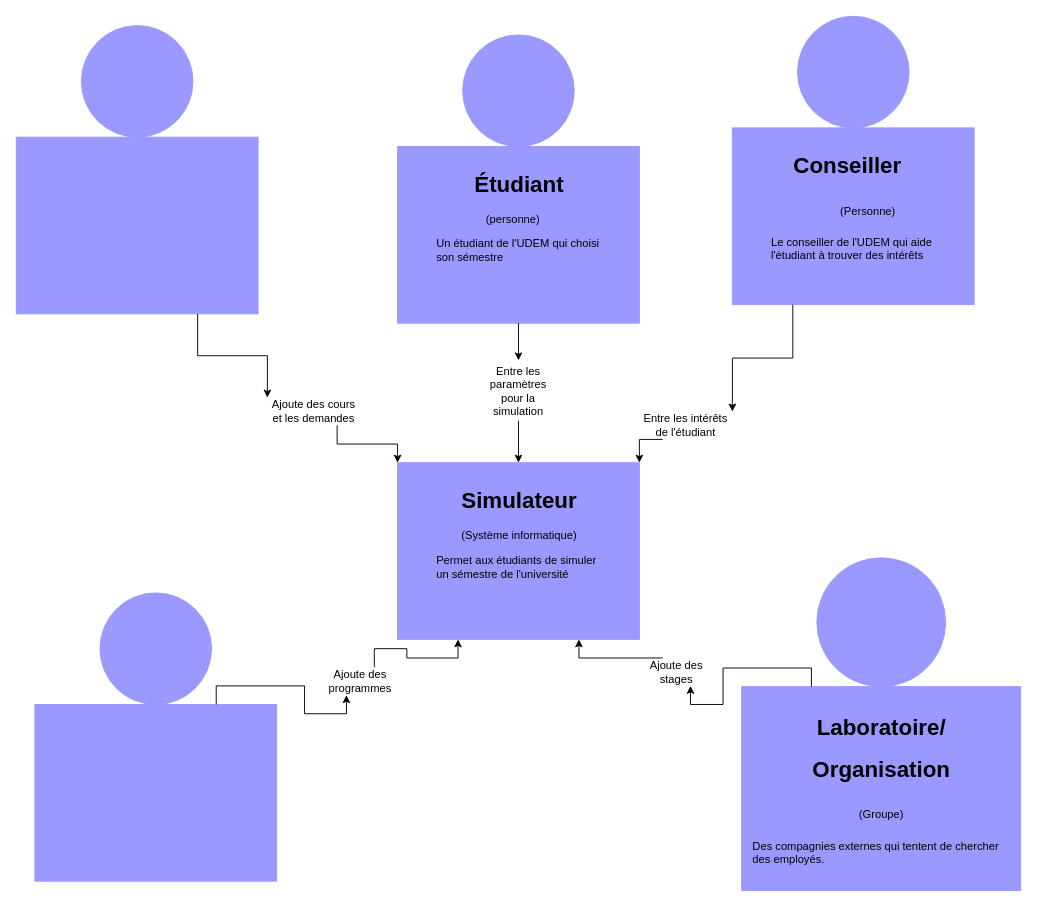
Some shapes in this 1037 by 907 pixel diagram are drawn without their labels. The shapes that lost their labels are listed below. From the top down, each one's centre as x and y in pixels, then its label:
the point at 136,225: Professeur (personne) Un Professeur de l'UDEM qui modifie son cours
the point at 155,792: Registraire (Groupe) Le registraire de l'UDEM qui s'occupe des programmes
